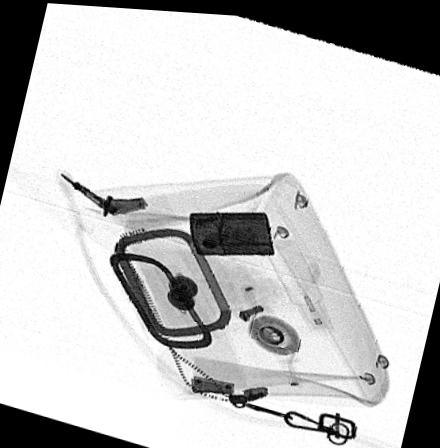Lighter: (186, 207, 274, 251)
